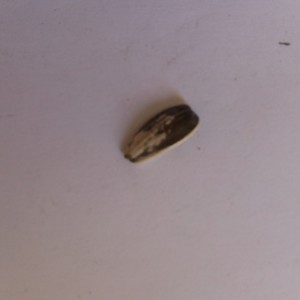girasol: (119, 99, 202, 167)
